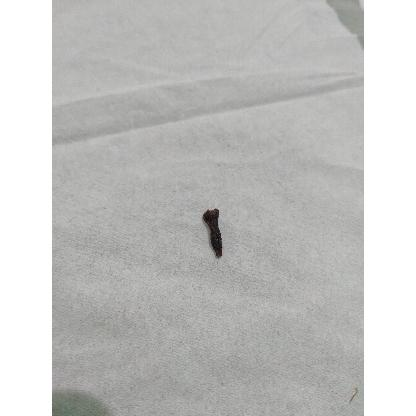buruk: (202, 209, 223, 259)
